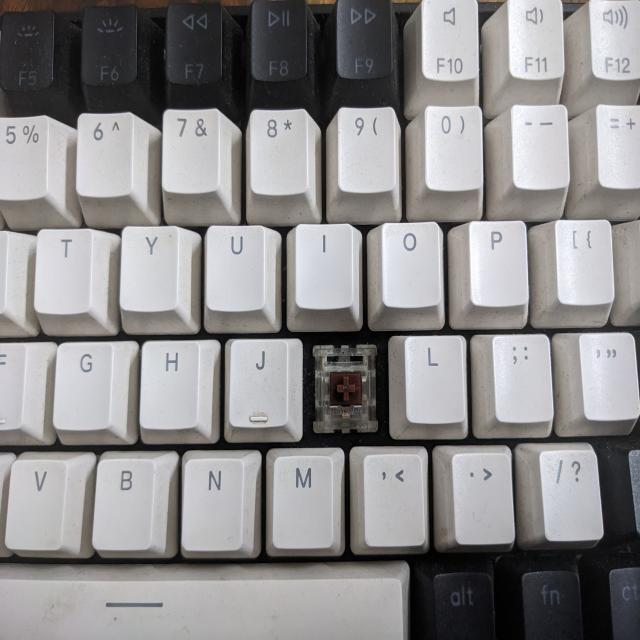C: (310, 340, 381, 436)
